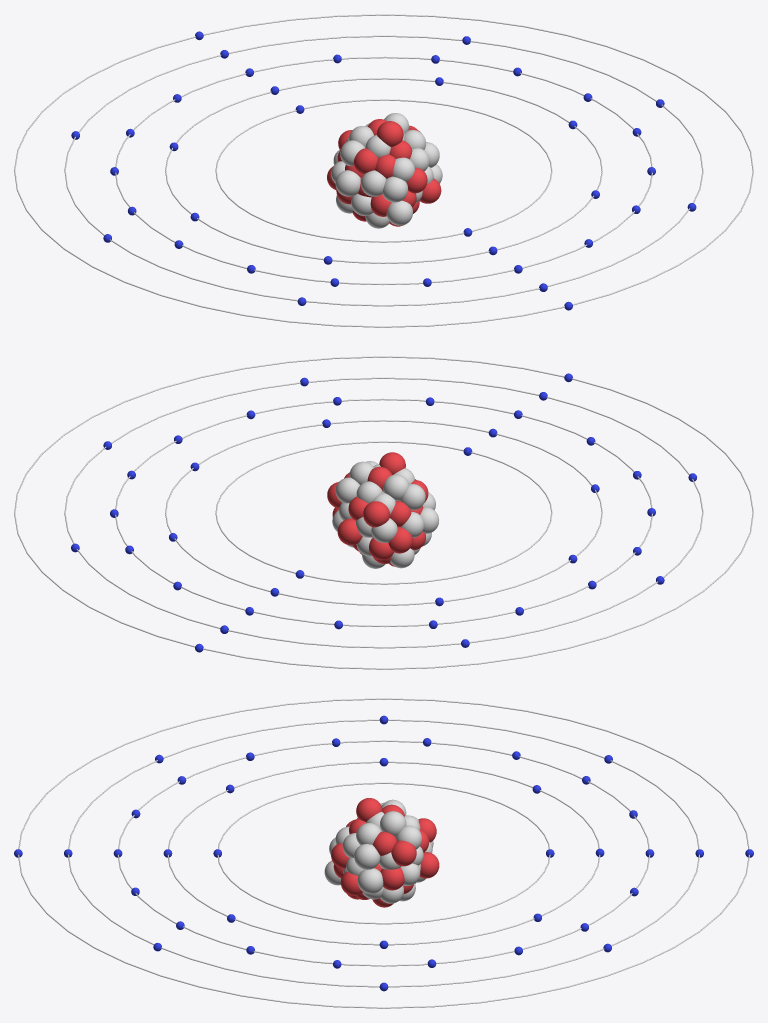
The model's file is Strontium.glb.
3 views of the same model, one above another, from view 1: azimuth 30°, elevation 25°; view 2: azimuth 150°, elevation 25°; view 3: azimuth 270°, elevation 25° (orthographic).
Visible parts, largest first — view 1: O-Schale, N-Schale, M-Schale, L-Schale, K-Schale, Neutron 44, Neutron 50, Neutron 42, Proton 38, Neutron 40; view 2: O-Schale, N-Schale, M-Schale, L-Schale, K-Schale, Proton 34; view 3: O-Schale, N-Schale, M-Schale, L-Schale, K-Schale, Neutron 48, Neutron 43, Proton 29.
Part boxes in pixels (<box>): O-Schale: <box>14,14,753,327</box>; N-Schale: <box>64,35,703,306</box>; M-Schale: <box>115,56,652,285</box>; L-Schale: <box>165,78,602,263</box>; K-Schale: <box>215,99,552,242</box>; Neutron 44: <box>335,170,360,196</box>; Neutron 50: <box>386,200,412,225</box>; Neutron 42: <box>382,176,408,202</box>; Proton 38: <box>377,121,403,147</box>; Neutron 40: <box>361,170,386,196</box>; O-Schale: <box>14,356,753,669</box>; N-Schale: <box>64,377,703,648</box>; M-Schale: <box>115,398,652,627</box>; L-Schale: <box>165,420,602,605</box>; K-Schale: <box>215,441,552,584</box>; Proton 34: <box>363,501,389,527</box>; O-Schale: <box>18,698,749,1008</box>; N-Schale: <box>68,719,699,987</box>; M-Schale: <box>117,740,650,966</box>; L-Schale: <box>167,761,600,945</box>; K-Schale: <box>217,782,550,924</box>; Neutron 48: <box>357,868,383,894</box>; Neutron 43: <box>354,844,380,869</box>; Proton 29: <box>391,840,416,866</box>.
Bounding box in the file's own units: 22.04 × 3.35 × 22.26.
